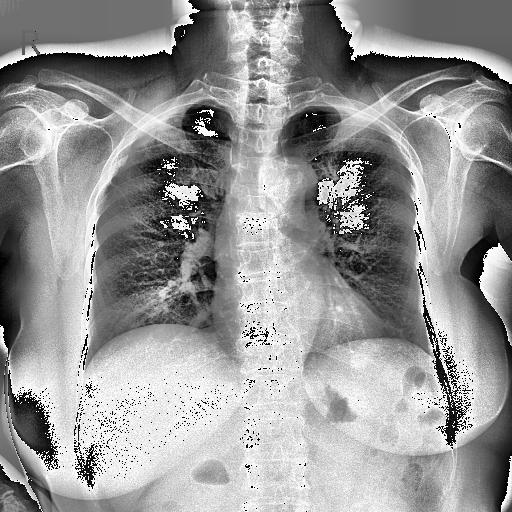0- Aortic enlargement: (260, 158, 320, 232), (268, 155, 321, 211), (266, 159, 318, 212)
11- Pleural thickening: (95, 98, 185, 182), (106, 102, 191, 178), (106, 108, 176, 180), (343, 104, 406, 154)
13- Pulmonary fibrosis: (106, 180, 147, 226)
3- Cardiomegaly: (208, 304, 390, 354)
